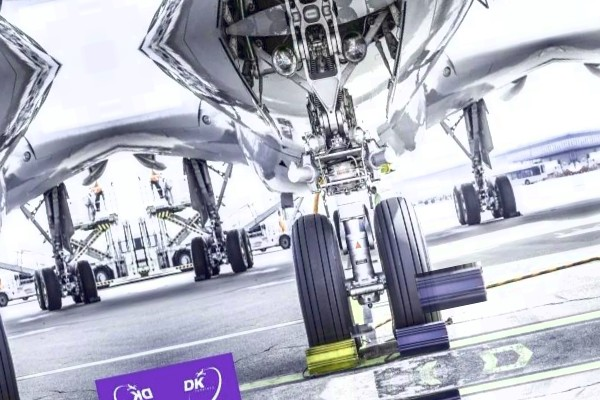chock: (414, 261, 489, 314), (301, 335, 362, 378), (395, 317, 452, 358), (349, 322, 376, 338), (502, 208, 523, 222), (82, 295, 102, 306), (193, 272, 212, 283)
wheel: (367, 192, 448, 357), (281, 211, 360, 361), (64, 258, 100, 306), (187, 233, 222, 281), (32, 265, 64, 312), (222, 226, 254, 273), (487, 173, 518, 220), (450, 181, 481, 227), (483, 179, 504, 219), (64, 263, 84, 304), (202, 235, 222, 276), (330, 208, 347, 253), (450, 184, 468, 225), (359, 202, 375, 246), (31, 270, 48, 311), (238, 228, 255, 268), (170, 247, 195, 273), (91, 263, 115, 290), (277, 233, 292, 250), (0, 290, 9, 308)
